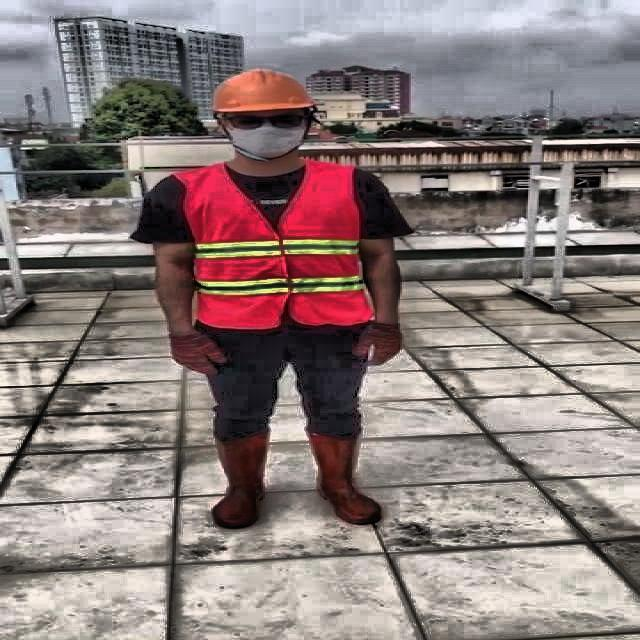safety_jacket: (181, 162, 370, 327)
